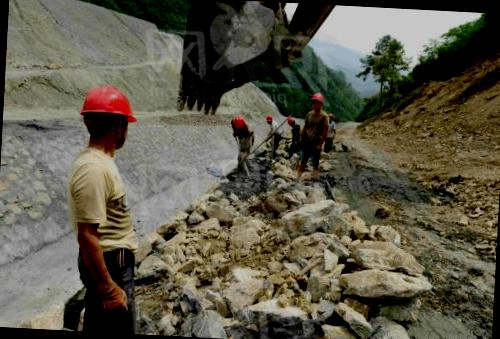person: (56, 79, 145, 332), (296, 88, 330, 180), (227, 114, 256, 174), (260, 111, 282, 160), (284, 112, 302, 162)
